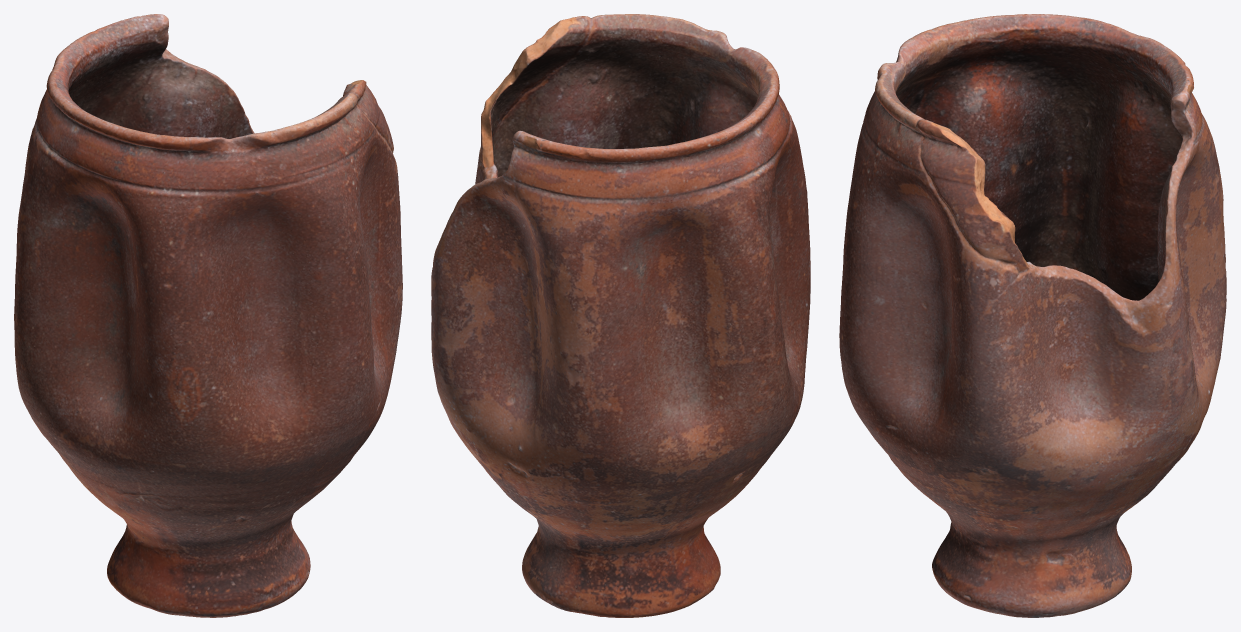
File: folded_beaker1k.glb
3 views of the same model, side by side, from view 1: azimuth 30°, elevation 25°; view 2: azimuth 150°, elevation 25°; view 3: azimuth 270°, elevation 25° (orthographic).
Visible parts, largest first — view 1: Object_4, Object_3, Object_2, Object_5; view 2: Object_4, Object_5, Object_3, Object_2; view 3: Object_3, Object_2, Object_5, Object_4.
Part boxes in pixels (<box>): Object_4: <box>15,15,341,580</box>; Object_3: <box>39,14,402,614</box>; Object_2: <box>20,129,402,617</box>; Object_5: <box>14,18,400,590</box>; Object_4: <box>431,19,810,617</box>; Object_5: <box>445,14,810,617</box>; Object_3: <box>431,15,806,597</box>; Object_2: <box>431,102,807,617</box>; Object_3: <box>839,14,1222,617</box>; Object_2: <box>843,129,1197,617</box>; Object_5: <box>840,14,1210,444</box>; Object_4: <box>852,14,1226,585</box>.
Size of the model in its own units: 0.0629 by 0.0889 by 0.0619.
1 material, 1 textured.
